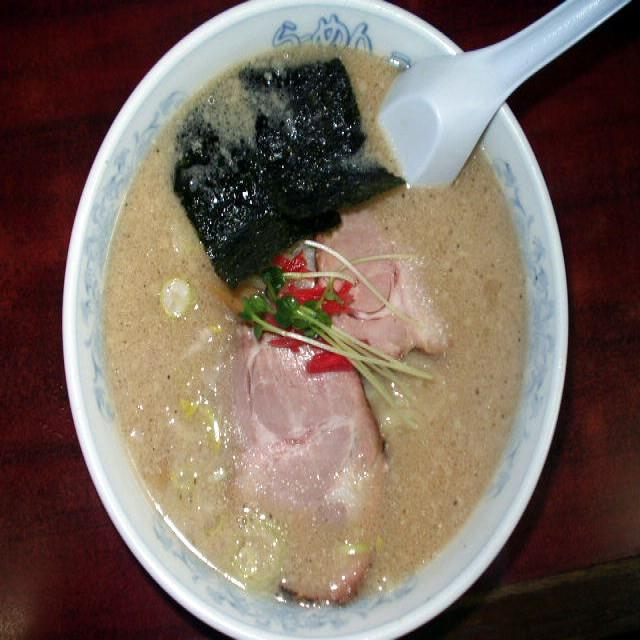面条主食: (52, 0, 572, 640)
